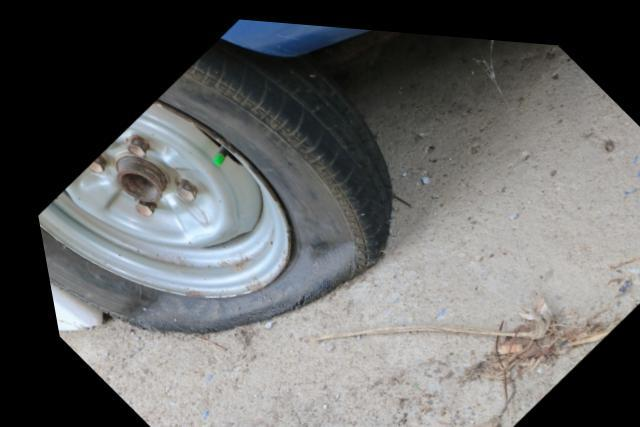tire flat: (30, 34, 388, 333)
